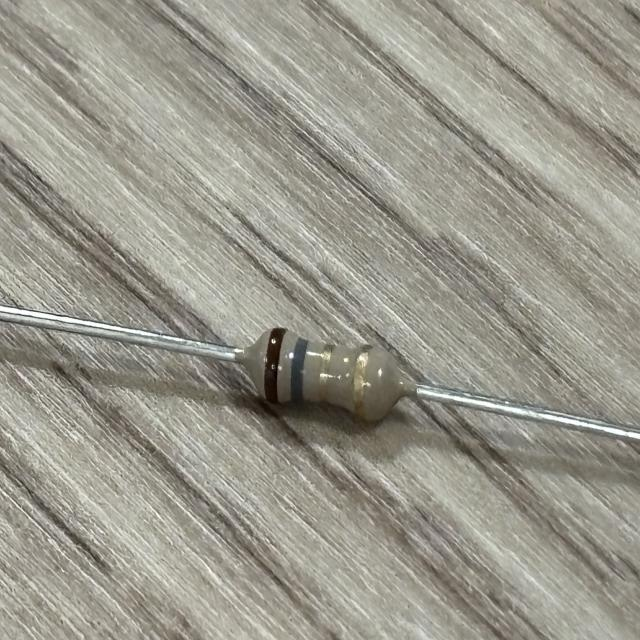resistor: (251, 322, 398, 428)
